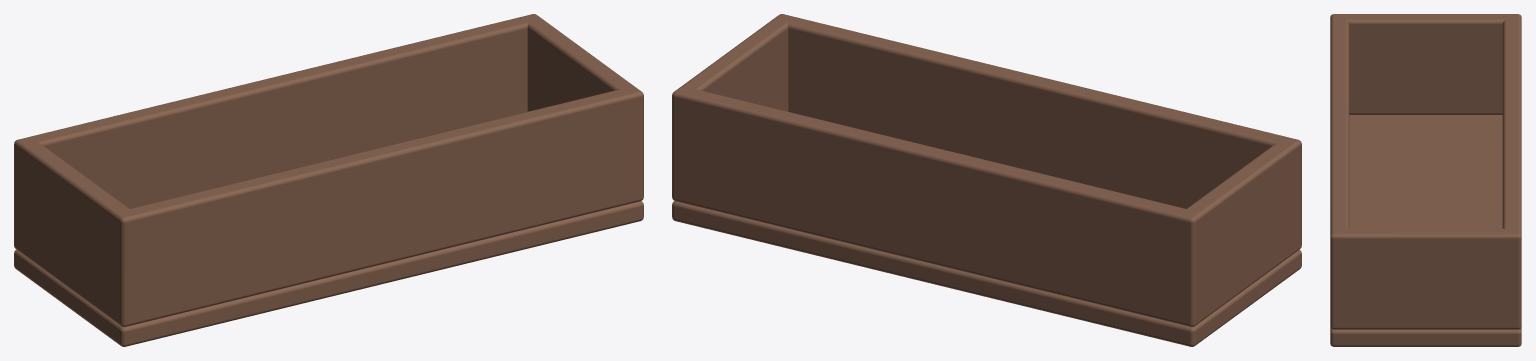
File: griffin-airmail-roost-and-posthouse-feed-trough-fa15014c__30507.glb
The picture shows the model from 3 angles, left to right: view 1: azimuth 30°, elevation 25°; view 2: azimuth 150°, elevation 25°; view 3: azimuth 270°, elevation 25°; orthographic projection. The views are drawn at different scales.
Parts seen in each view (by area): view 1: feed-trough; view 2: feed-trough; view 3: feed-trough.
Boxes of the visible parts, x1,y1,x2,y2 form: feed-trough: [14, 14, 643, 346]; feed-trough: [672, 14, 1301, 346]; feed-trough: [1330, 14, 1521, 346].
Size of the model in its own units: 1.1 by 0.26 by 0.4001.
